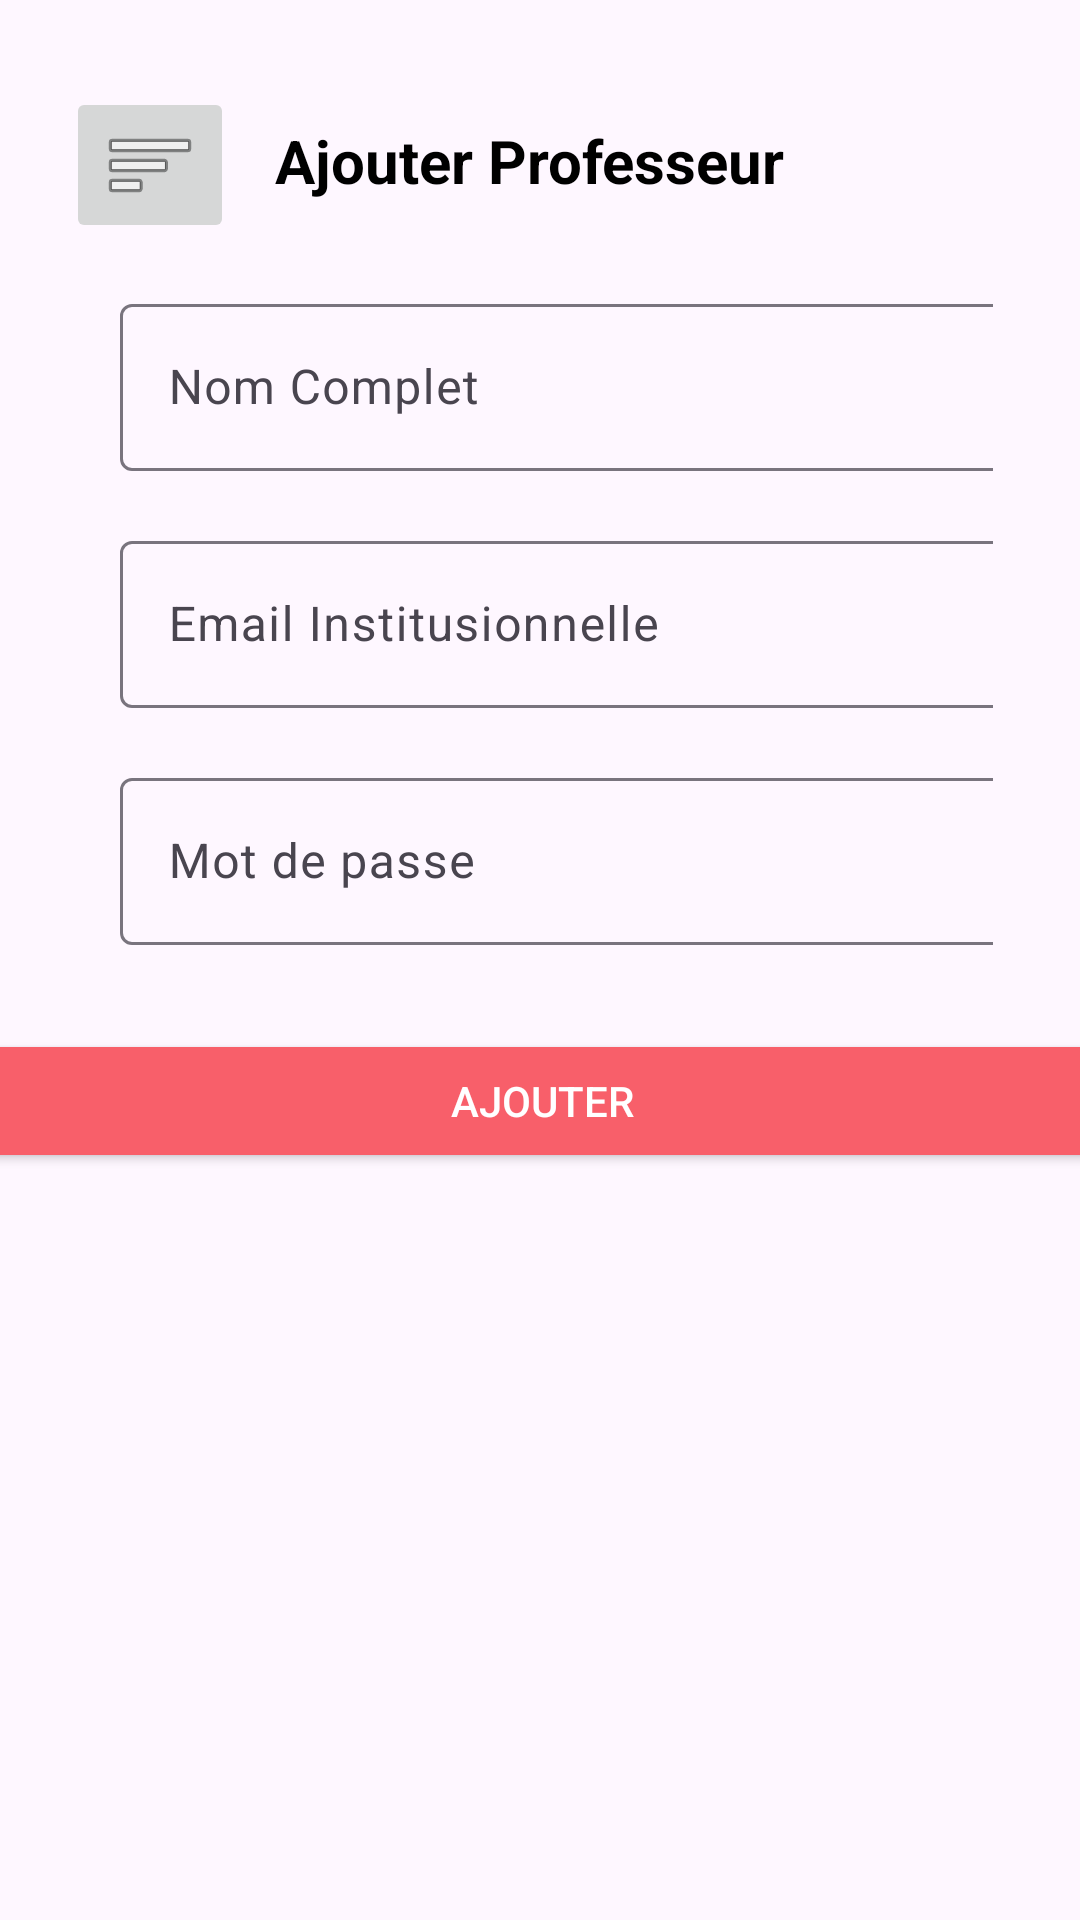

Named icons in this screenshot (1080px x 1920px) and their bounding boxes, (x1, y1, x2, y2):
sort by size: (78, 105, 222, 225)
